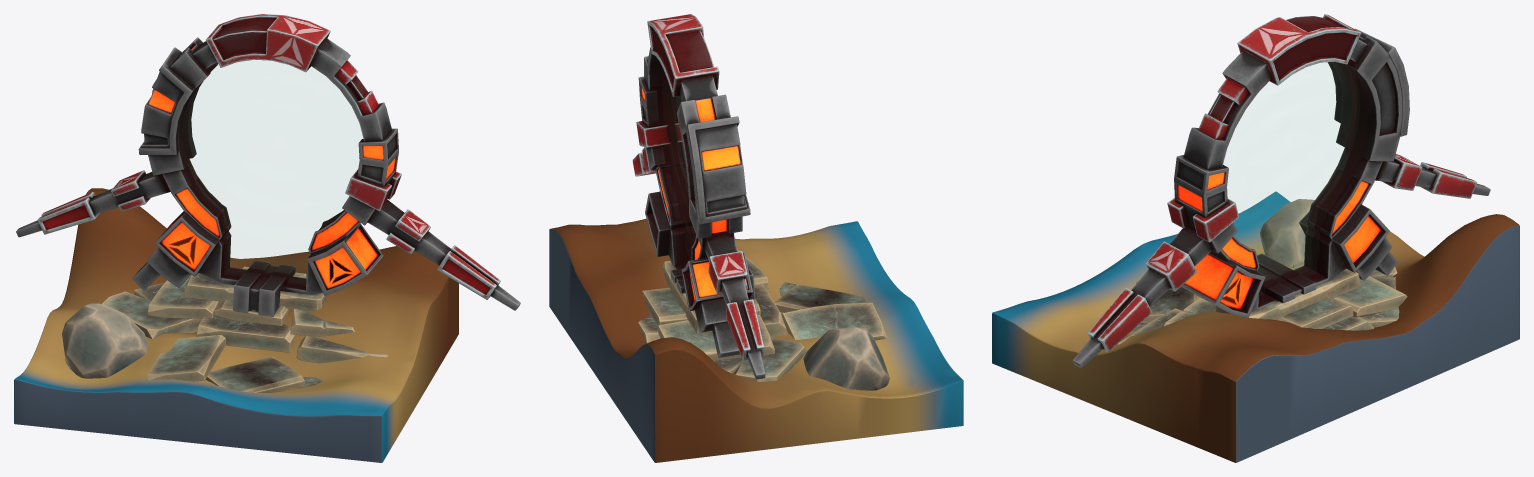
The model's file is Portal.fbx.
3 renders of one model, left to right at view 1: azimuth 30°, elevation 25°; view 2: azimuth 150°, elevation 25°; view 3: azimuth 270°, elevation 25°, orthographic. The views are drawn at different scales.
Parts seen in each view (by area): view 1: desert2_low_Material.002_0, teleport.body_low_Material.004_0, teleport.part1_low_Material.004_0, stone_low_Material.004_0, teleport.part7_low_Material.004_0, teleport.part6_low_Material.004_0, teleport.part3_low_Material.004_0, schod2_low.001_Material.004_0, teleport.part2_low_Material.004_0, schod3_low.001_Material.004_0, teleport.part8_low_Material.004_0, teleport.part4_low_Material.004_0 (+9 smaller); view 2: desert2_low_Material.002_0, teleport.body_low_Material.004_0, teleport.part3_low_Material.004_0, stone_low_Material.004_0, teleport.part1_low_Material.004_0, teleport.part7_low_Material.004_0, schod2_low.001_Material.004_0, teleport.part2_low_Material.004_0, teleport.part6_low_Material.004_0, schod5_low_Material.004_0, teleport.lastpart_low_Material.004_0, schod3_low.001_Material.004_0 (+6 smaller); view 3: desert2_low_Material.002_0, teleport.body_low_Material.004_0, teleport.part2_low_Material.004_0, teleport.part1_low_Material.004_0, teleport.part7_low_Material.004_0, teleport.part6_low_Material.004_0, teleport.part4_low_Material.004_0, stone_low_Material.004_0, schod1_low_Material.004_0, teleport.part8_low_Material.004_0, schod2_low_Material.004_0, teleport.part5_low_Material.004_0 (+5 smaller).
Part boxes in pixels (x1,y1,x2,y2): desert2_low_Material.002_0: [14, 188, 458, 462]; teleport.body_low_Material.004_0: [154, 38, 391, 295]; teleport.part1_low_Material.004_0: [206, 14, 330, 72]; stone_low_Material.004_0: [62, 303, 147, 378]; teleport.part7_low_Material.004_0: [37, 170, 500, 299]; teleport.part6_low_Material.004_0: [16, 172, 520, 310]; teleport.part3_low_Material.004_0: [138, 47, 194, 154]; schod2_low.001_Material.004_0: [146, 335, 225, 381]; teleport.part2_low_Material.004_0: [148, 37, 217, 175]; schod3_low.001_Material.004_0: [205, 357, 304, 392]; teleport.part8_low_Material.004_0: [233, 260, 295, 316]; teleport.part4_low_Material.004_0: [342, 128, 398, 225]; desert2_low_Material.002_0: [549, 218, 963, 462]; teleport.body_low_Material.004_0: [644, 47, 752, 310]; teleport.part3_low_Material.004_0: [686, 116, 750, 224]; stone_low_Material.004_0: [803, 327, 889, 390]; teleport.part1_low_Material.004_0: [647, 14, 719, 97]; teleport.part7_low_Material.004_0: [632, 147, 763, 360]; schod2_low.001_Material.004_0: [781, 302, 886, 340]; teleport.part2_low_Material.004_0: [676, 94, 742, 238]; teleport.part6_low_Material.004_0: [703, 231, 765, 379]; schod5_low_Material.004_0: [713, 337, 807, 381]; teleport.lastpart_low_Material.004_0: [695, 298, 740, 357]; schod3_low.001_Material.004_0: [774, 284, 866, 312]; desert2_low_Material.002_0: [992, 191, 1519, 462]; teleport.body_low_Material.004_0: [1181, 39, 1389, 317]; teleport.part2_low_Material.004_0: [1332, 36, 1402, 161]; teleport.part1_low_Material.004_0: [1237, 14, 1360, 85]; teleport.part7_low_Material.004_0: [1087, 154, 1476, 352]; teleport.part6_low_Material.004_0: [1072, 161, 1490, 368]; teleport.part4_low_Material.004_0: [1174, 155, 1237, 253]; stone_low_Material.004_0: [1260, 199, 1314, 266]; schod1_low_Material.004_0: [1215, 263, 1360, 320]; teleport.part8_low_Material.004_0: [1257, 253, 1316, 303]; schod2_low_Material.004_0: [1333, 276, 1407, 317]; teleport.part5_low_Material.004_0: [1167, 198, 1238, 242].
Bounding box in the file's own units: 493 × 375 × 491.
Materials: 3 (2 with a texture image).
